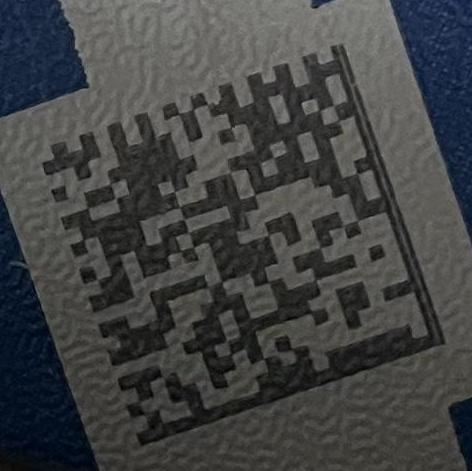datamatrix: (43, 42, 447, 448)
